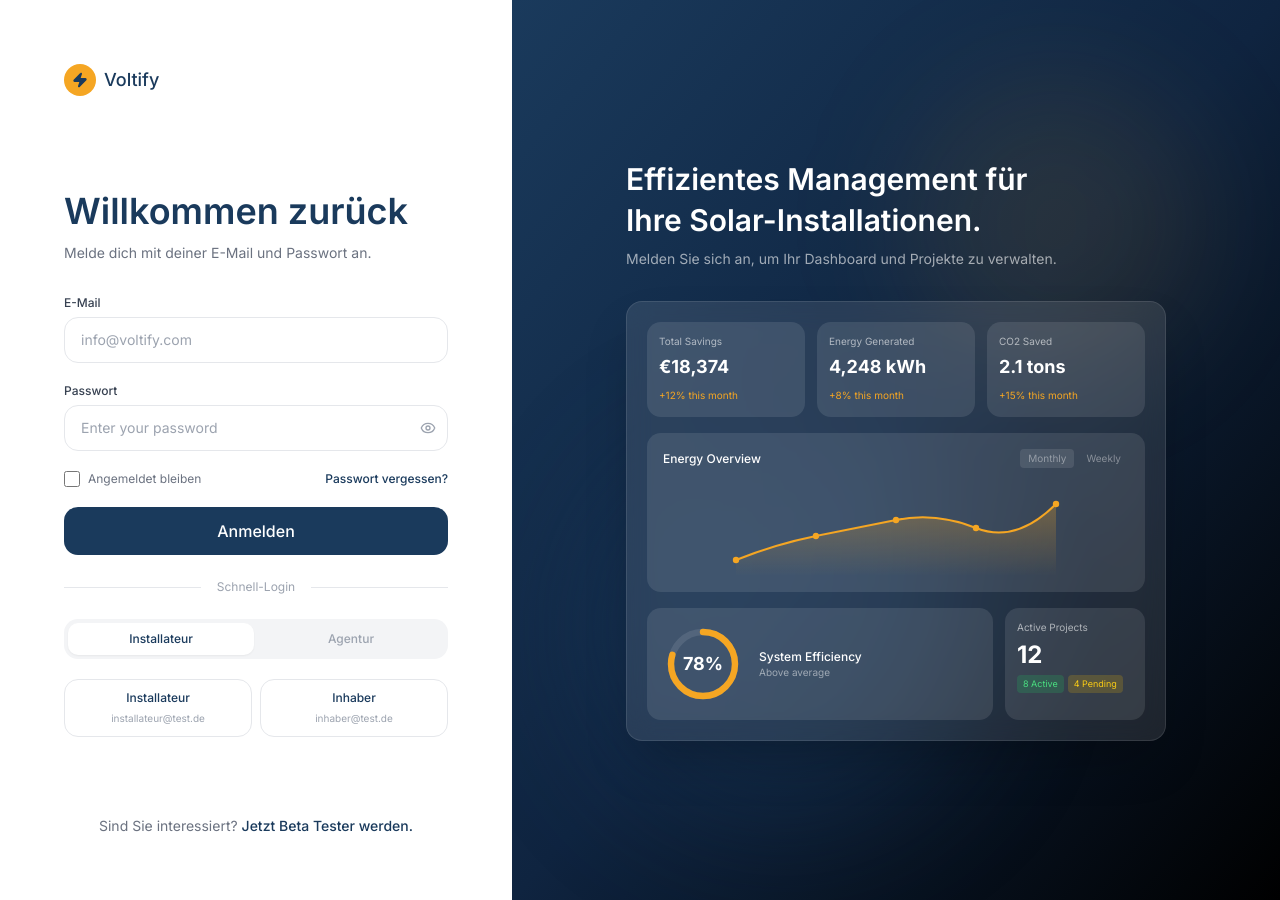
Login › füllt Test-Account-Daten beim Klick auf Schnell-Login
Klick auf den Button der die Installateur-E-Mail-Adresse zeigt
Click the button "Installateur installateur@test.de": (158, 708) [64, 679, 252, 737]
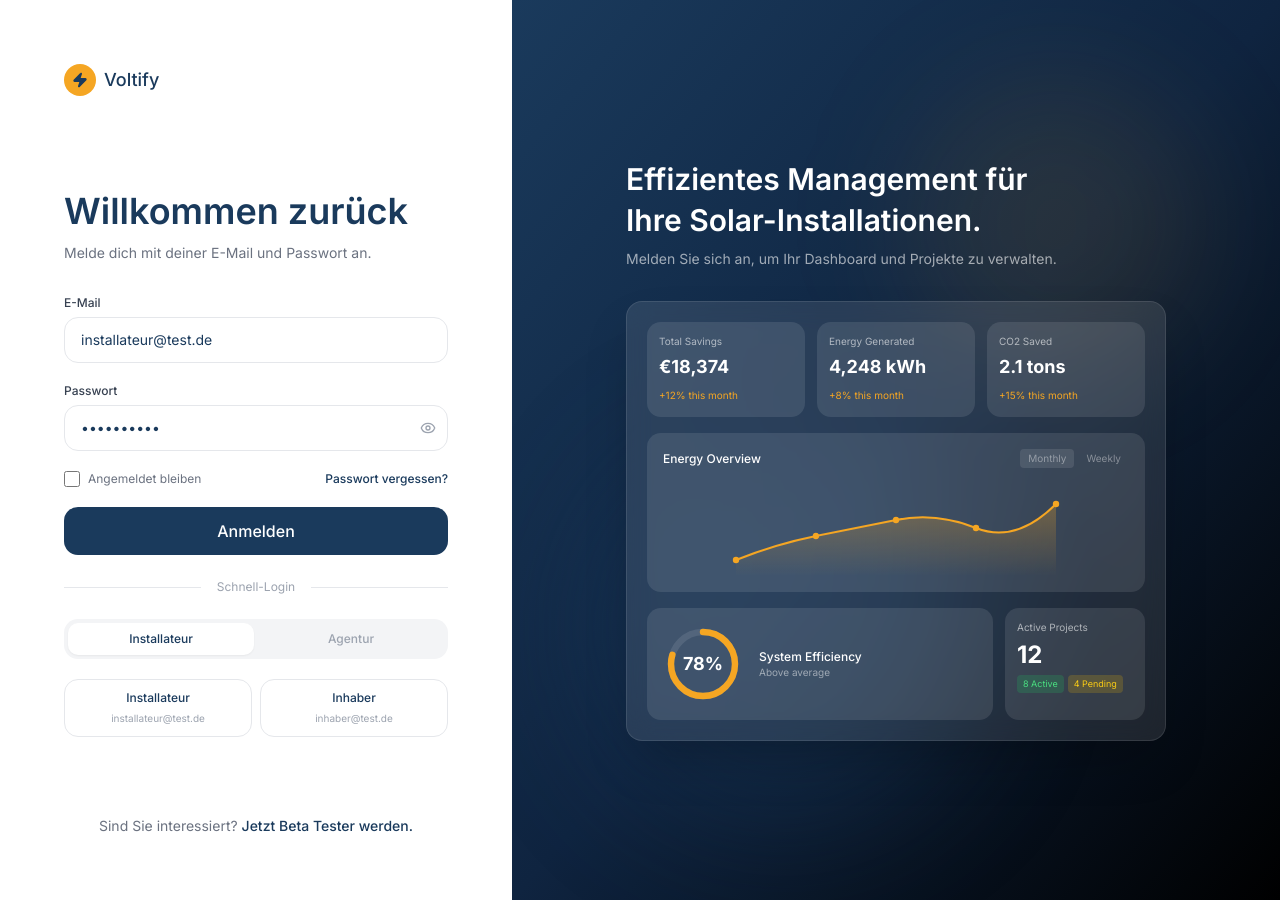
expect the field with placeholder "info@voltify.com" holds "installateur@test.de": met, box [64, 317, 448, 363]
